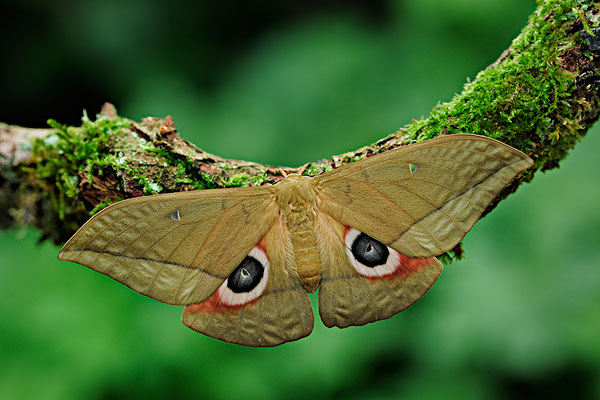feie: (62, 125, 530, 348)
